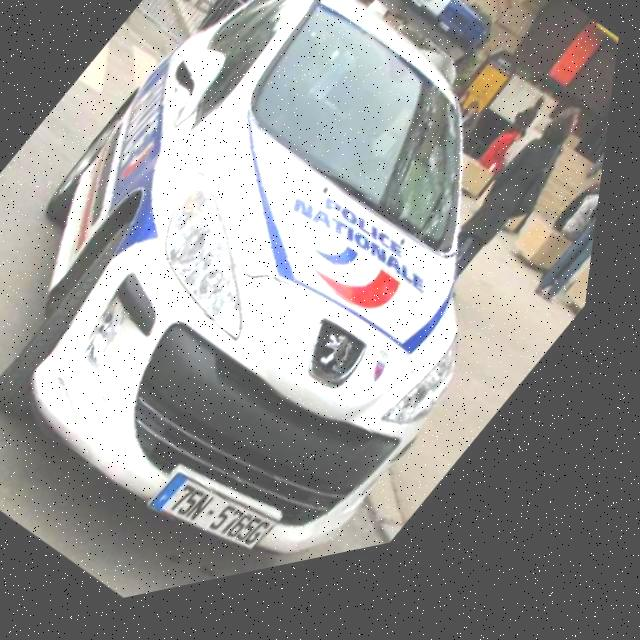license_plate: (150, 440, 310, 601)
